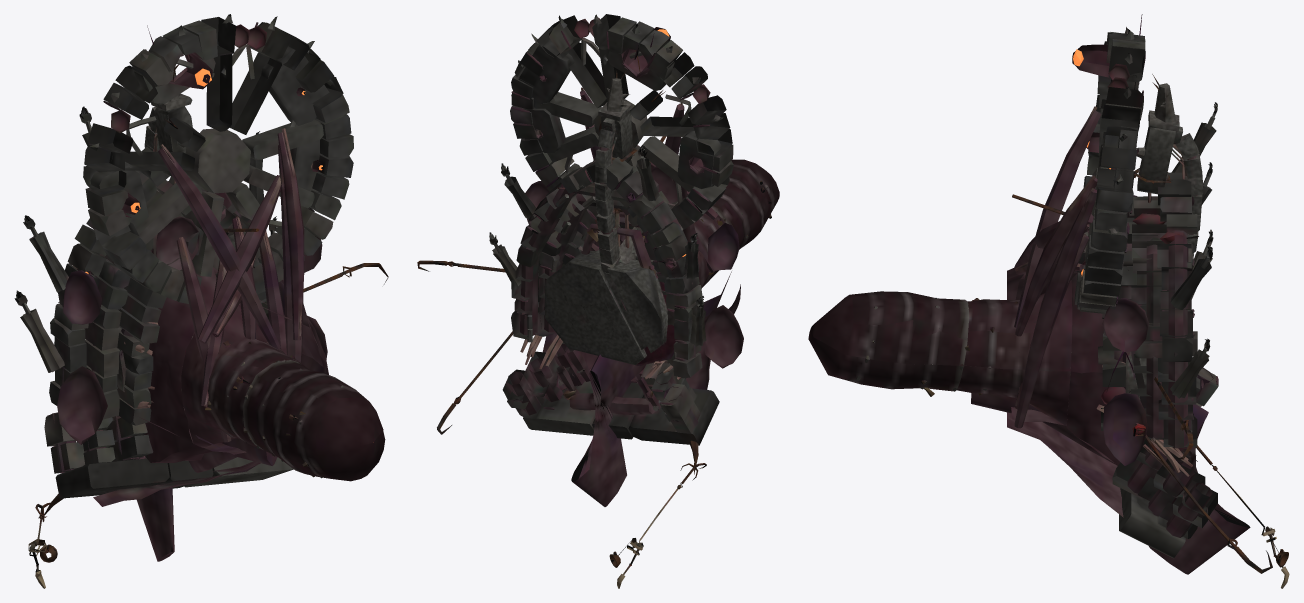
The model's file is mason_kit.glb.
3 views of the same model, side by side, from view 1: azimuth 30°, elevation 25°; view 2: azimuth 150°, elevation 25°; view 3: azimuth 270°, elevation 25° (orthographic). The views are drawn at different scales.
Parts seen in each view (by area): view 1: Mason_Head, Mason_LimbUpper, Mason_Segment_0; view 2: Mason_Head, Mason_Segment_0, Mason_LimbUpper, Mason_Segment_1; view 3: Mason_Head, Mason_LimbUpper, Mason_Segment_0.
Part boxes in pixels (x1,y1,x2,y2): Mason_Head: (14,14,385,588); Mason_LimbUpper: (144,64,192,250); Mason_Segment_0: (117,322,194,410); Mason_Head: (437,14,779,588); Mason_Segment_0: (545,227,676,365); Mason_LimbUpper: (595,70,637,273); Mason_Segment_1: (603,271,657,349); Mason_Head: (808,14,1289,588); Mason_LimbUpper: (1134,74,1203,267); Mason_Segment_0: (1096,310,1190,412).
Size of what is drawn, in the model's own units: 6.97 by 11.3 by 8.37.
3 materials, 2 textured.
